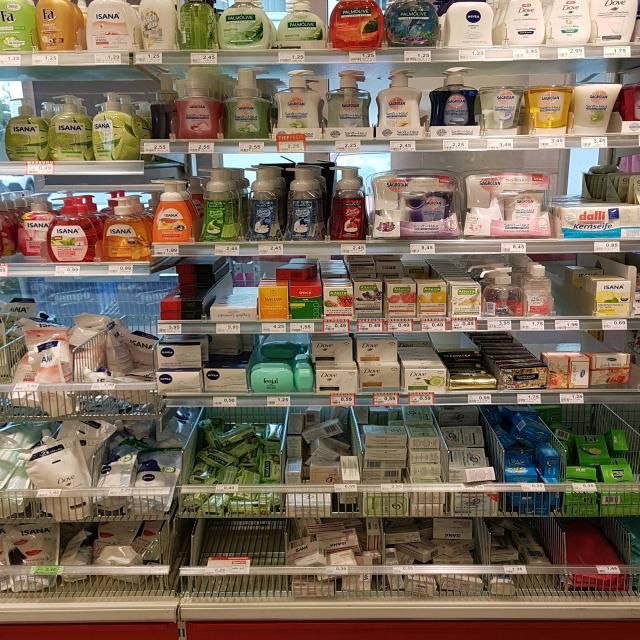empty: (181, 516, 283, 595), (554, 260, 591, 329)
